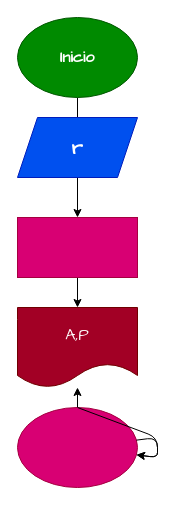
This 183x505 diagram has some shape labels left out. Here are the shapes that lost their labels. From the top down, the box of each, then its label:
(16, 216, 138, 278): A = pi*r2 P = 2*pi*r
(16, 406, 138, 488): FIN
